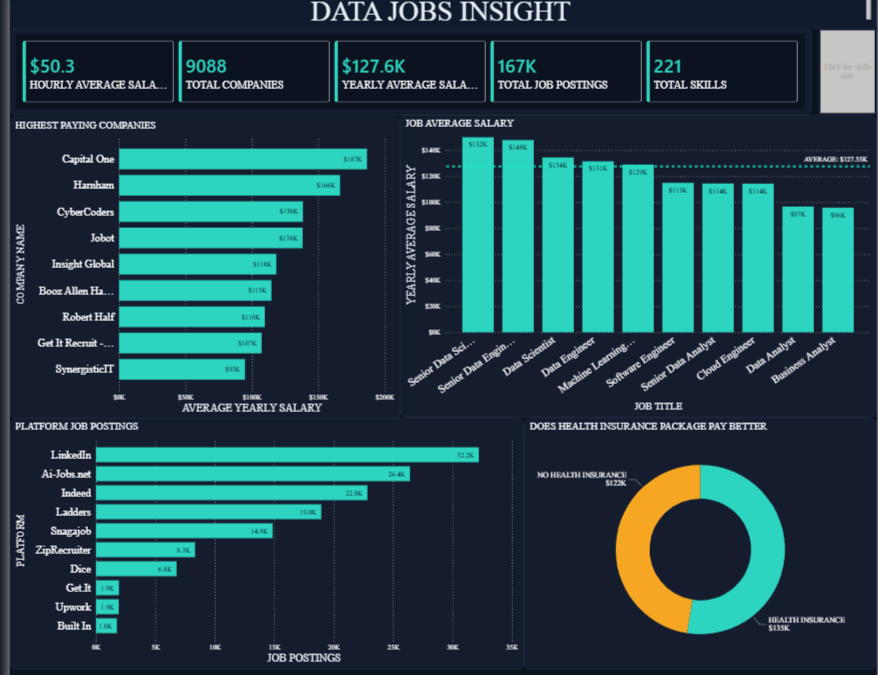

The page's visual inventory and layout, read from the dashboard file:
{"tool":"powerbi","page":{"name":"MAIN DASHBOARD","canvas":[1500,1175],"ordinal":0},"visuals":[{"type":"cardVisual","fields":{"Data":["_meaures.Hourly Salary Average","Count(datasets_montly.company_name)","_meaures.Yearly Salary Average","_meaures.TOTAL JOB POSTINGS","_meaures.TOTAL SKILLS"]},"box":[0,65.8,1387.7,150.7],"z":0},{"type":"barChart","title":"HIGHEST PAYING COMPANIES","fields":{"Category":["datasets_montly.company_name"],"Y":["_meaures.YEARLY AVERAGE SALARY"]},"box":[0,217.3,676,524],"z":1000},{"type":"columnChart","title":"JOB AVERAGE SALARY","fields":{"Category":["datasets_montly.job_title_short"],"Y":["_meaures.YEARLY AVERAGE SALARY"]},"box":[675.3,216.4,824.7,523.3],"z":2000},{"type":"actionButton","box":[1398.6,65.8,101.4,150.7],"z":3000},{"type":"barChart","title":"PLATFORM JOB POSTINGS","fields":{"Category":["datasets_montly.job_via"],"Y":["CountNonNull(datasets_montly.job_title_short)"]},"box":[0,739.7,890.4,435.6],"z":4000},{"type":"donutChart","title":"DOES HEALTH INSURANCE PACKAGE PAY BETTER","fields":{"Y":["_meaures.YEARLY AVERAGE SALARY"],"Category":["datasets_montly.HEALTH INSURANCE"]},"box":[890.4,739.7,609.6,435.6],"z":5000},{"type":"textbox","box":[0,0,1500,65.8],"z":6000}]}

Visuals, with their boxes in screenshot pixels (x1, y1, x2, y2), scaled from the page's 1500x1175 canvas onto the 878x675 screenshot:
cardVisual - _meaures.Hourly Salary Average x Count(datasets_montly.company_name): {"left": 0, "top": 38, "right": 812, "bottom": 124}
"HIGHEST PAYING COMPANIES" barChart: {"left": 0, "top": 125, "right": 396, "bottom": 426}
"JOB AVERAGE SALARY" columnChart: {"left": 395, "top": 124, "right": 877, "bottom": 425}
actionButton: {"left": 819, "top": 38, "right": 877, "bottom": 124}
"PLATFORM JOB POSTINGS" barChart: {"left": 0, "top": 425, "right": 521, "bottom": 674}
"DOES HEALTH INSURANCE PACKAGE PAY BETTER" donutChart: {"left": 521, "top": 425, "right": 877, "bottom": 674}
textbox: {"left": 0, "top": 0, "right": 877, "bottom": 38}
